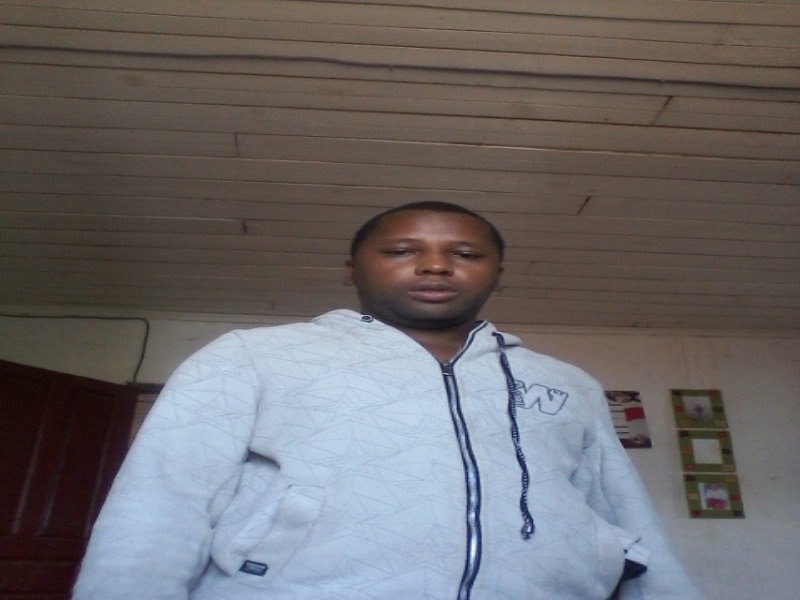TsisyArotava: (339, 182, 512, 340)
